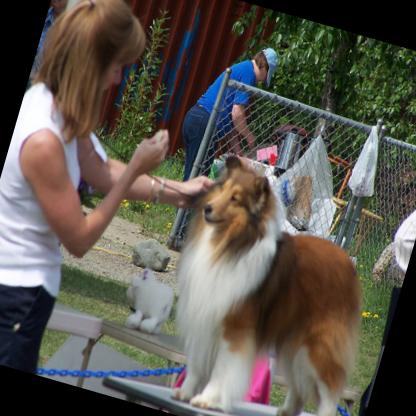Shetland_sheepdog: (137, 145, 402, 416)
